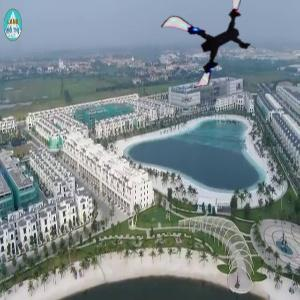drone: (168, 2, 256, 90)
